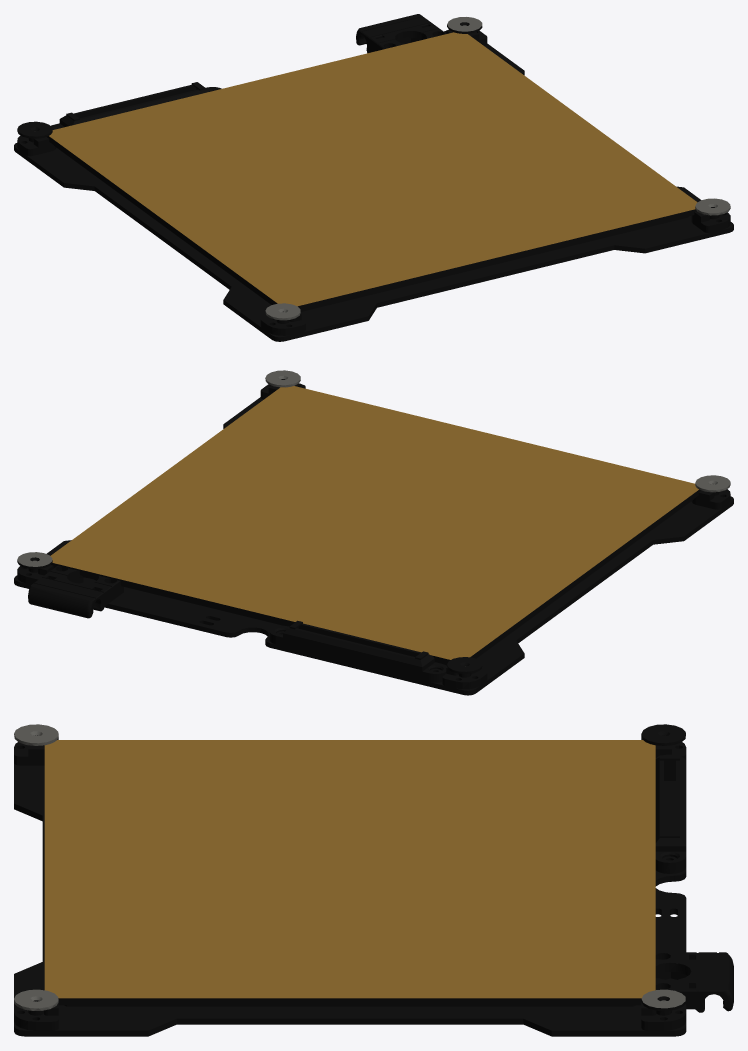
Rendered from DigitalTwin_AQlanLabTableRemaster_YAxis.FBX.
3 views of the same model, one above another, from view 1: azimuth 30°, elevation 25°; view 2: azimuth 150°, elevation 25°; view 3: azimuth 270°, elevation 25° (orthographic). The views are drawn at different scales.
Parts seen in each view (by area): view 1: DigitalTwin_AQlanLabTableRemaster_YAxis; view 2: DigitalTwin_AQlanLabTableRemaster_YAxis; view 3: DigitalTwin_AQlanLabTableRemaster_YAxis.
Boxes of the visible parts, bbox=[...] form: DigitalTwin_AQlanLabTableRemaster_YAxis: bbox=[14, 14, 733, 341]; DigitalTwin_AQlanLabTableRemaster_YAxis: bbox=[14, 370, 733, 695]; DigitalTwin_AQlanLabTableRemaster_YAxis: bbox=[14, 724, 733, 1036].
Size of what is drawn, in the model's own units: 129921 by 139147 by 21722.
